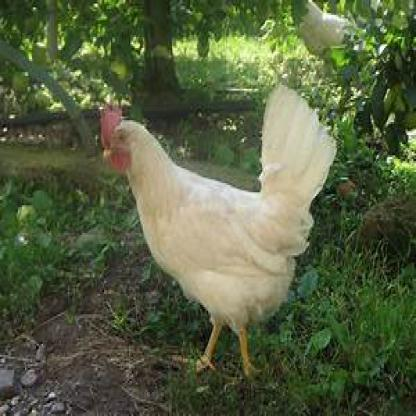chicken: (101, 109, 325, 372)
